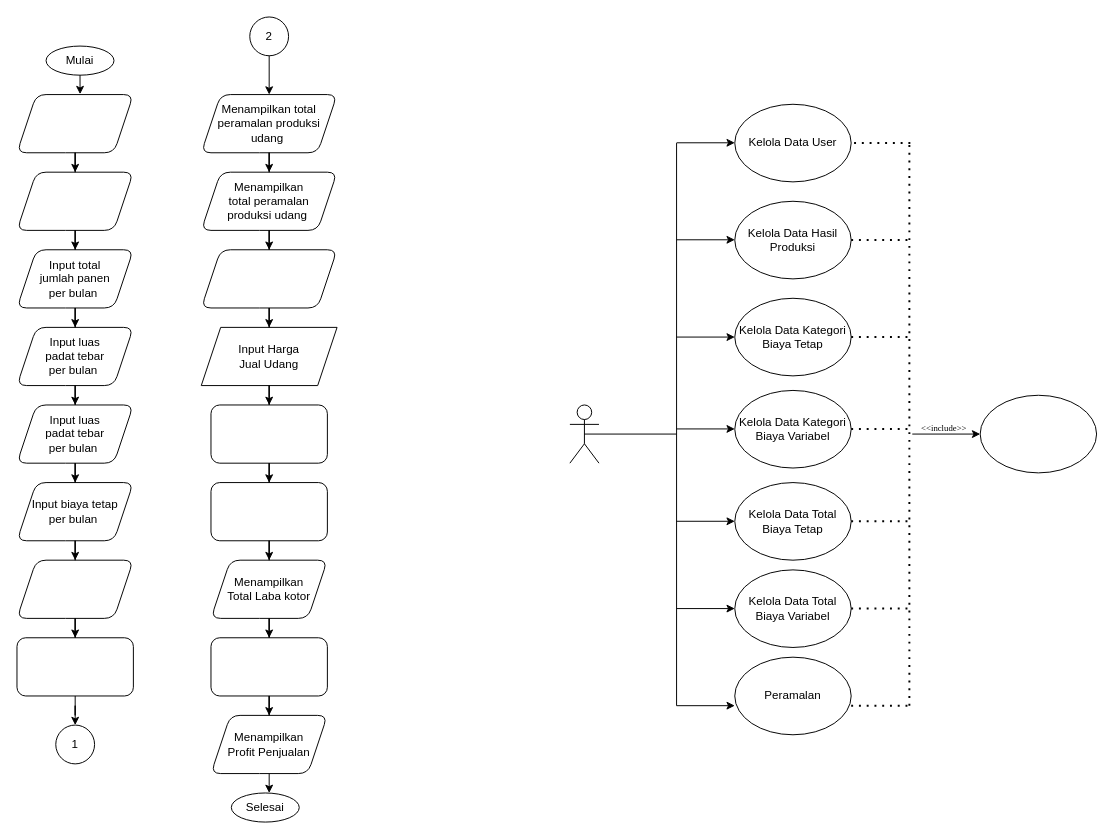
Some shapes in this 1114 by 839 pixel diagram are drawn without their labels. Each missing label, with the box of its shape:
Admin: (569, 404, 599, 463)
Autentifikasi: (979, 394, 1097, 473)
Input biaya variabel per bulan: (16, 559, 133, 618)
Input luas total per bulan: (16, 171, 133, 230)
Input padat tebar per bulan: (16, 94, 133, 153)
Menampilkan BEP: (200, 249, 337, 308)
Mencari BEP: (16, 637, 133, 696)
Menghitung Laba Kotor: (210, 482, 327, 541)
Menghitung Profit Penjualan: (210, 637, 327, 696)
Menghitung Total Pendapatan dari total produksi yang sudah diramalkan: (210, 404, 327, 463)
